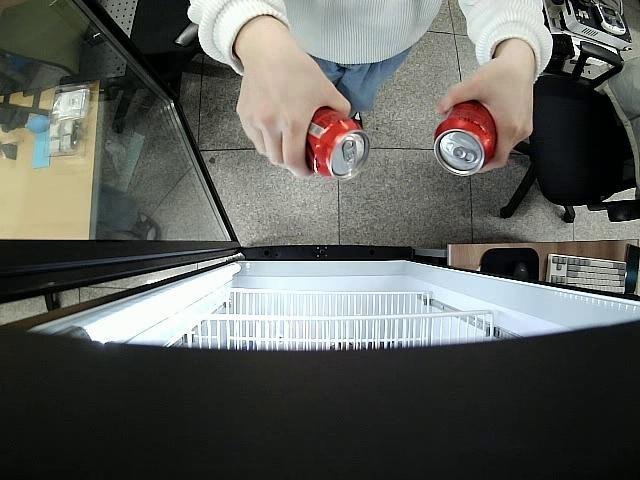11_cocaColaZero: (298, 104, 372, 183), (432, 98, 498, 176)
